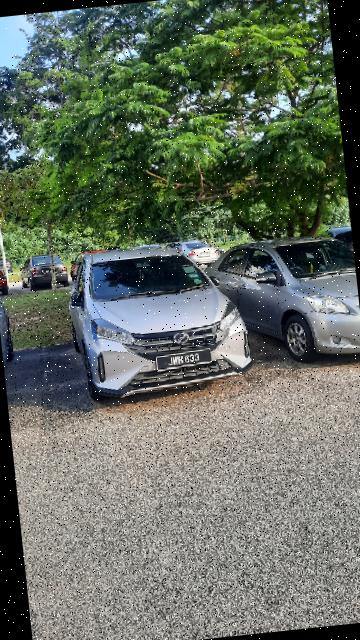License_Plate: (151, 349, 215, 373)
car: (62, 232, 260, 405), (201, 227, 360, 371)
